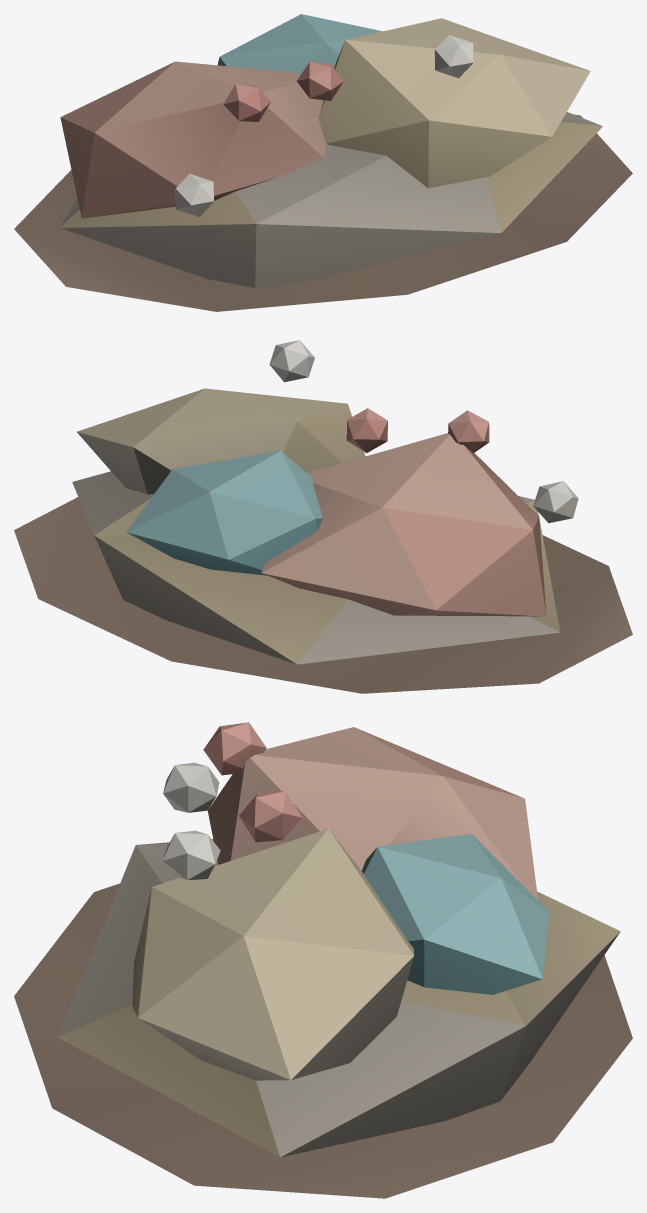
Rendered from nets.lod2.glb.
The picture shows the model from 3 angles, top to bottom: view 1: azimuth 30°, elevation 25°; view 2: azimuth 150°, elevation 25°; view 3: azimuth 270°, elevation 25°; orthographic projection. The views are drawn at different scales.
Size of the model in its own units: 1.95 by 0.6148 by 1.4.
